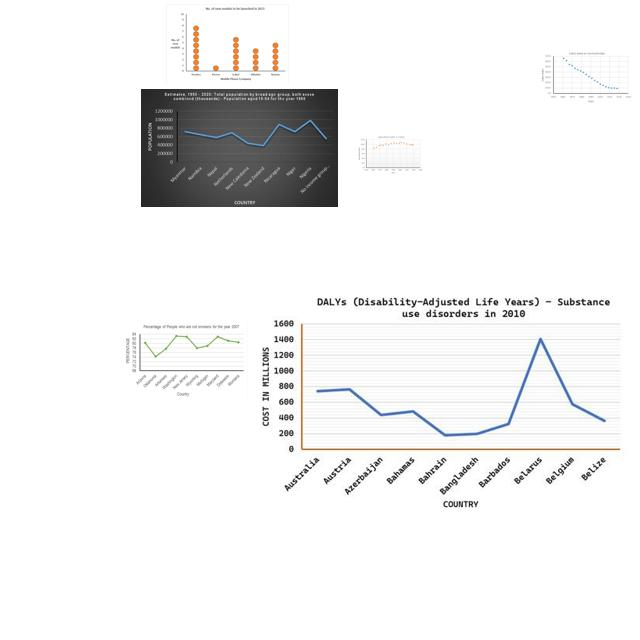Graph: (254, 285, 627, 514), (141, 89, 338, 207), (166, 4, 289, 84), (122, 322, 248, 399), (541, 51, 632, 103), (357, 134, 423, 174)
